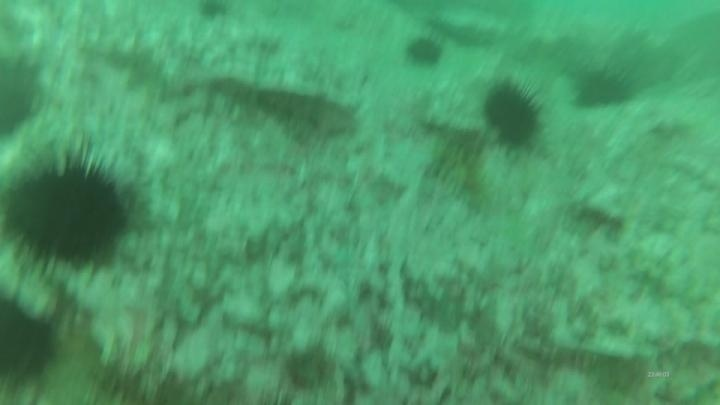echinus: (0, 141, 137, 281), (0, 287, 64, 395), (478, 77, 548, 154), (0, 50, 47, 142), (570, 65, 638, 113), (402, 33, 446, 71)
holothurian: (424, 139, 493, 214)
